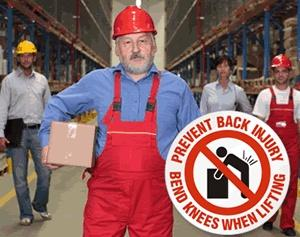helmet: (113, 6, 160, 41), (15, 41, 39, 56), (271, 55, 293, 71)
